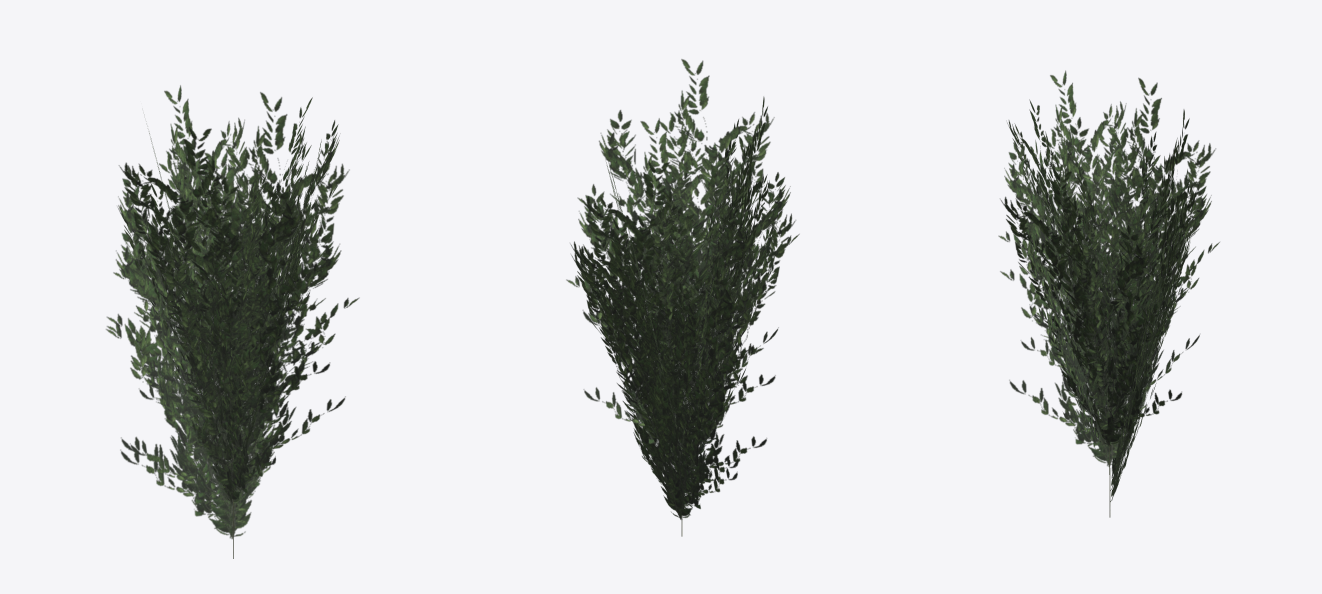
The picture shows the model from 3 angles, left to right: view 1: azimuth 30°, elevation 25°; view 2: azimuth 150°, elevation 25°; view 3: azimuth 270°, elevation 25°; orthographic projection. The views are drawn at different scales.
Parts seen in each view (by area): view 1: Sans_titre; view 2: Sans_titre; view 3: Sans_titre.
Boxes of the visible parts, <box> form: Sans_titre: <box>106,85,359,558</box>; Sans_titre: <box>566,59,799,536</box>; Sans_titre: <box>998,70,1219,517</box>.
Size of the model in its own units: 2.19 by 2.7 by 2.21.
2 materials, 2 textured.
